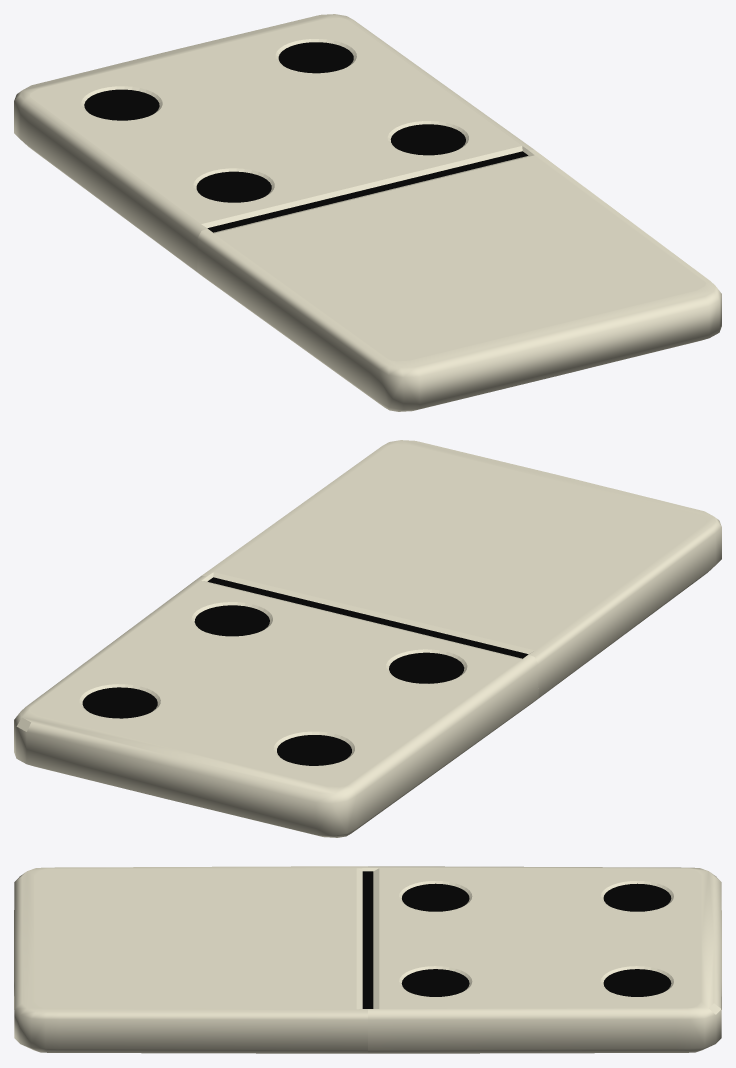
The model's file is Domino_0_4.glb.
3 views of the same model, one above another, from view 1: azimuth 30°, elevation 25°; view 2: azimuth 150°, elevation 25°; view 3: azimuth 270°, elevation 25° (orthographic). The views are drawn at different scales.
Visible parts, largest first — view 1: Domino_0_4_A.001, Domino_0_4_B.001; view 2: Domino_0_4_B.001, Domino_0_4_A.001; view 3: Domino_0_4_A.001, Domino_0_4_B.001.
Part boxes in pixels (left/top/right/bottom): Domino_0_4_A.001: left=197, top=149, right=721, bottom=411; Domino_0_4_B.001: left=14, top=14, right=533, bottom=276; Domino_0_4_B.001: left=14, top=575, right=538, bottom=837; Domino_0_4_A.001: left=202, top=440, right=721, bottom=702; Domino_0_4_A.001: left=14, top=866, right=367, bottom=1053; Domino_0_4_B.001: left=368, top=866, right=721, bottom=1053.
Bounding box in the file's own units: 0.7725 × 0.105 × 1.54.
